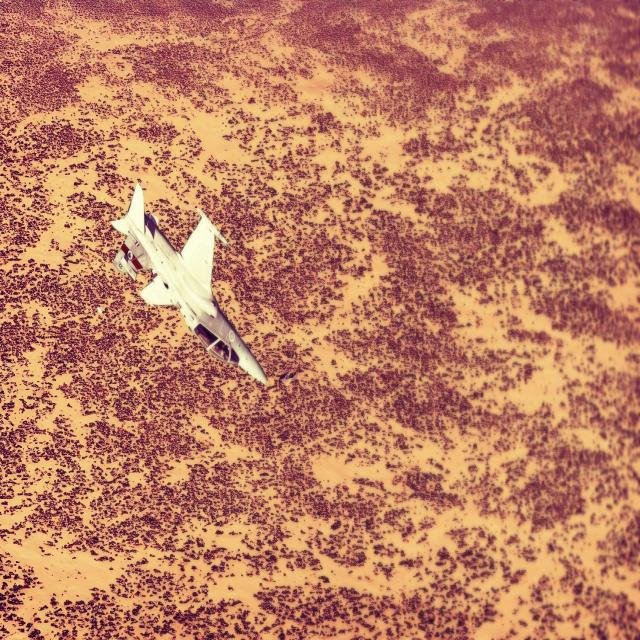airplane: (110, 182, 268, 386)
